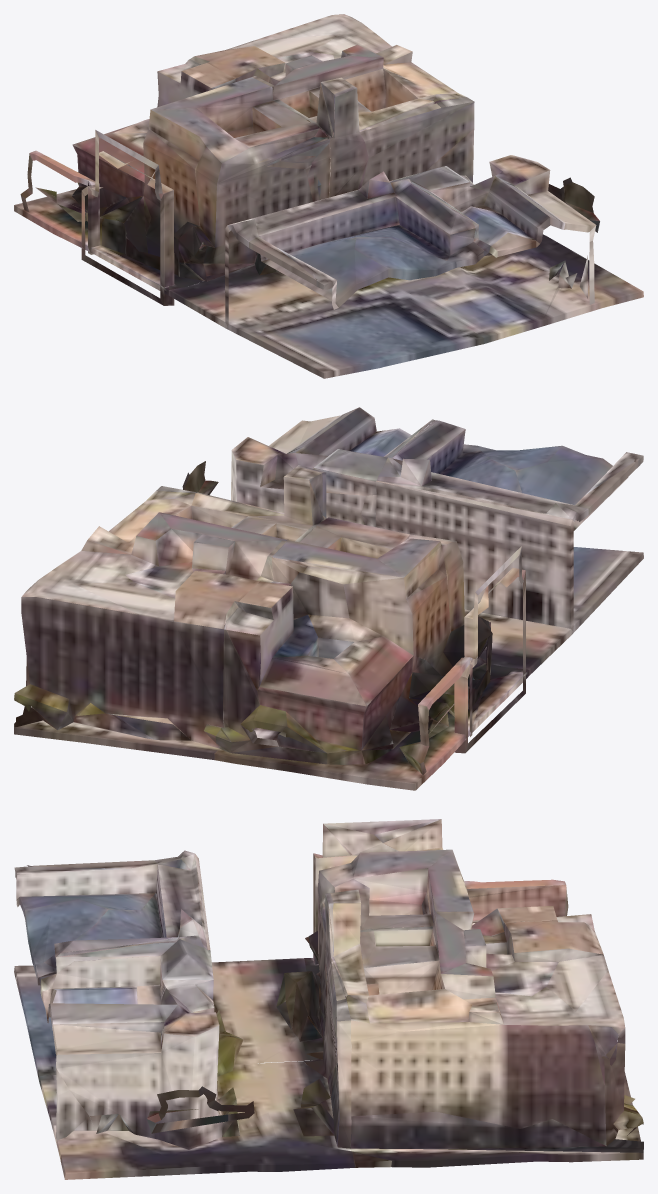
3 renders of one model, top to bottom at view 1: azimuth 30°, elevation 25°; view 2: azimuth 150°, elevation 25°; view 3: azimuth 270°, elevation 25°, orthographic. The views are drawn at different scales.
Parts seen in each view (by area): view 1: Mesh_0; view 2: Mesh_0; view 3: Mesh_0.
Boxes of the visible parts, left/top/right/bottom form: Mesh_0: left=14, top=14, right=643, bottom=378; Mesh_0: left=14, top=407, right=643, bottom=790; Mesh_0: left=14, top=819, right=643, bottom=1179.
Size of the model in its own units: 133 by 55.78 by 165.
1 material, 1 textured.
